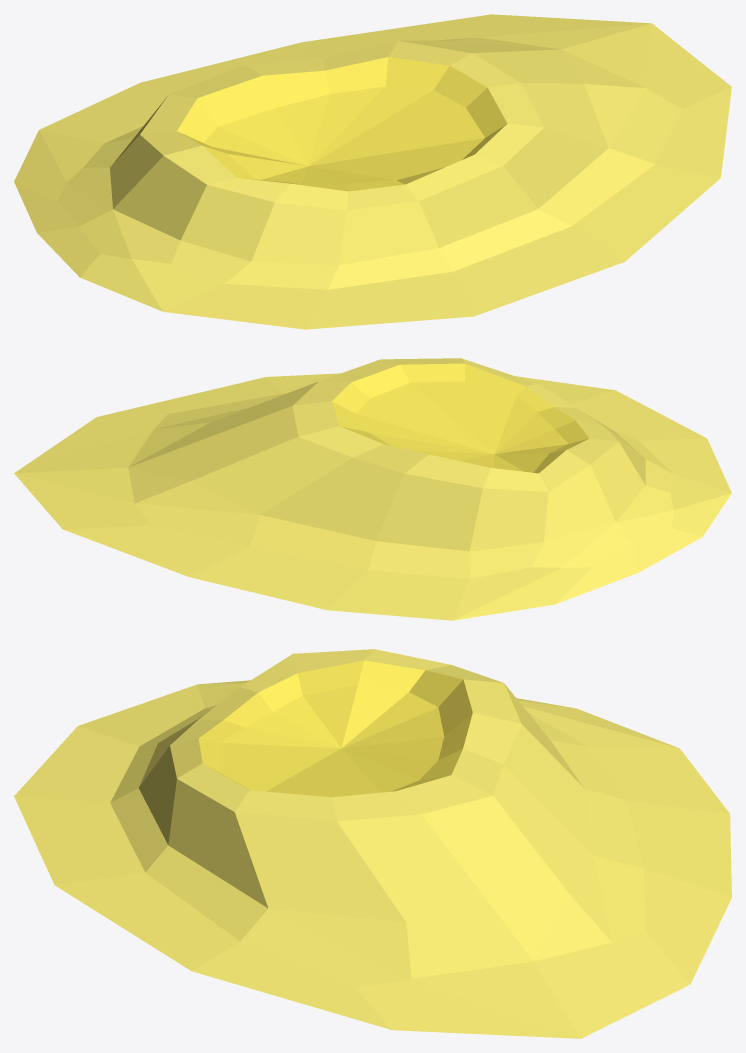
File: Hill_026.fbx
3 views of the same model, one above another, from view 1: azimuth 30°, elevation 25°; view 2: azimuth 150°, elevation 25°; view 3: azimuth 270°, elevation 25° (orthographic). The views are drawn at different scales.
Visible parts, largest first — view 1: Hill_026; view 2: Hill_026; view 3: Hill_026.
Boxes of the visible parts, x1,y1,x2,y2 form: Hill_026: (14,14,731,329); Hill_026: (14,358,731,620); Hill_026: (14,649,731,1038).
Size of the model in its own units: 219 by 185 by 28.89.
1 material, 1 textured.
